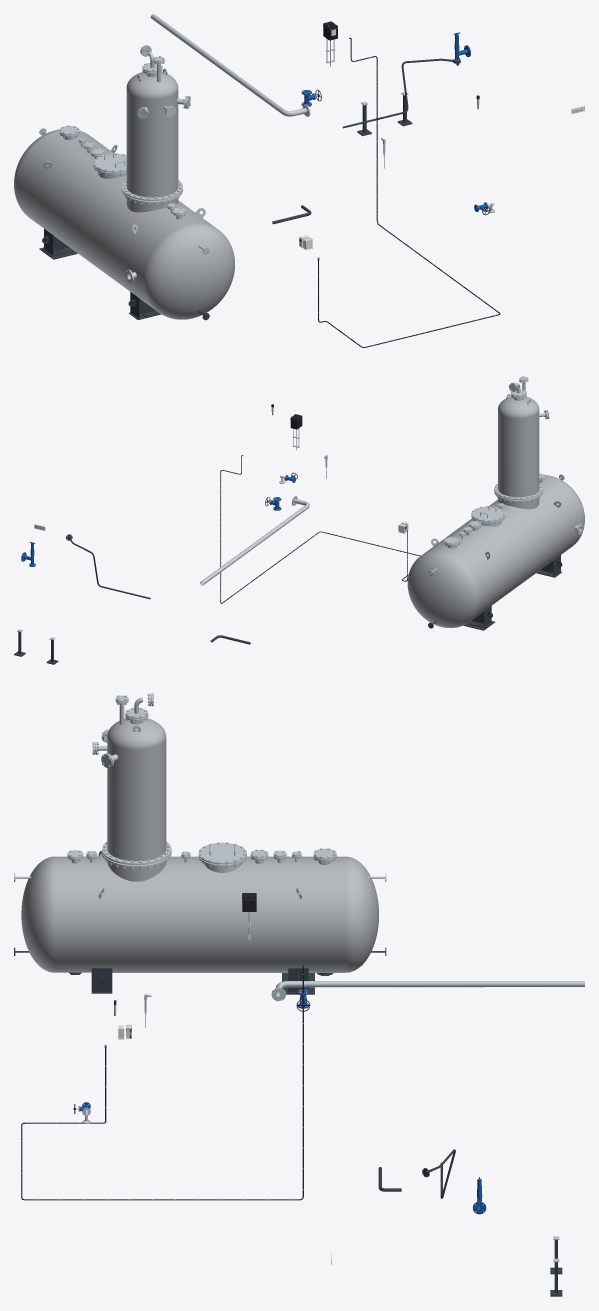
Rendered from s4000-1-C6jiShZv.glb.
The picture shows the model from 3 angles, top to bottom: view 1: azimuth 30°, elevation 25°; view 2: azimuth 150°, elevation 25°; view 3: azimuth 270°, elevation 25°; orthographic projection. The views are drawn at different scales.
Parts seen in each view (by area): view 1: deaerator CAD solid 56, deaerator CAD solid 257, safety_vent_2 / steel, mod_eco_drive_cable / black, deaerator CAD solid 408, tds_without_fv / dark; view 2: deaerator CAD solid 56, deaerator CAD solid 257, safety_vent_2 / steel, mod_eco_drive_cable / black, deaerator CAD solid 408; view 3: deaerator CAD solid 56, deaerator CAD solid 257, safety_vent_2 / steel, mod_eco_drive_cable / black, deaerator CAD solid 408.
Boxes of the visible parts, x1,y1,x2,y2 form: deaerator CAD solid 56: [14, 129, 234, 319]; deaerator CAD solid 257: [126, 72, 178, 197]; safety_vent_2 / steel: [150, 14, 310, 116]; mod_eco_drive_cable / black: [318, 37, 500, 347]; deaerator CAD solid 408: [93, 153, 126, 172]; tds_without_fv / dark: [342, 57, 459, 128]; deaerator CAD solid 56: [407, 475, 584, 627]; deaerator CAD solid 257: [498, 396, 539, 497]; safety_vent_2 / steel: [200, 495, 309, 585]; mod_eco_drive_cable / black: [220, 455, 420, 603]; deaerator CAD solid 408: [471, 506, 505, 521]; deaerator CAD solid 56: [21, 856, 378, 972]; deaerator CAD solid 257: [107, 718, 166, 861]; safety_vent_2 / steel: [271, 981, 584, 1001]; mod_eco_drive_cable / black: [21, 965, 303, 1200]; deaerator CAD solid 408: [198, 842, 246, 864].
Bounding box in the file's own units: 9.11 × 4.82 × 6.97.
